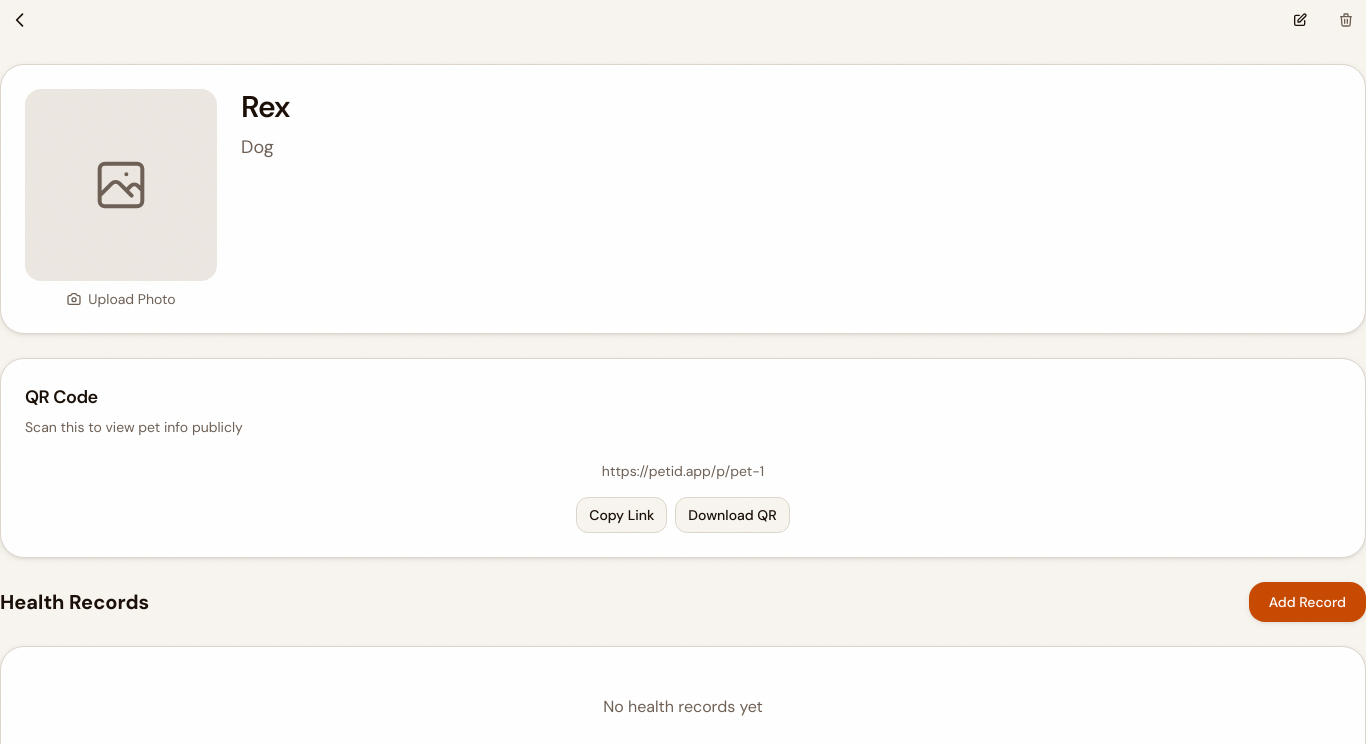
PetDetailPage — loaded state › shows HealthRecordForm when Add Record is clicked
What coordinates should you click on to do the following:
click the button "Add Record"
I would click on:
 (1307, 602)
Its box is 1249,582 -> 1365,622.
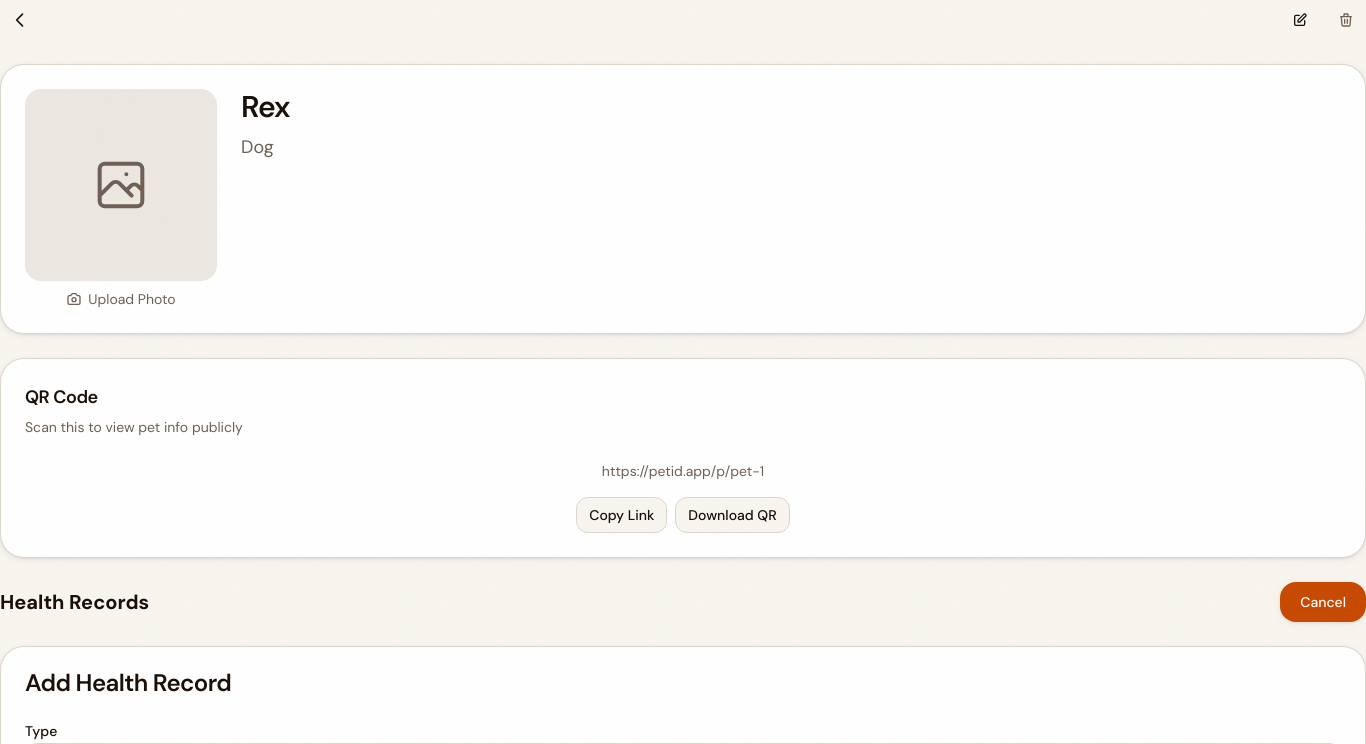
Check: the button "Cancel" is shown, box 1280,582 -> 1365,622
